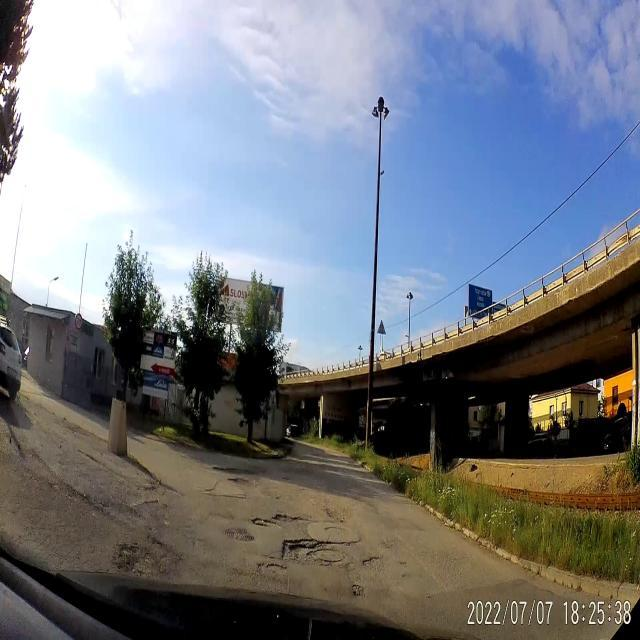Manhole: (222, 523, 256, 548), (314, 544, 348, 566), (323, 520, 351, 543)
Pothole: (114, 530, 183, 580), (278, 535, 314, 571), (254, 508, 308, 532), (362, 552, 385, 573), (349, 582, 366, 600)
